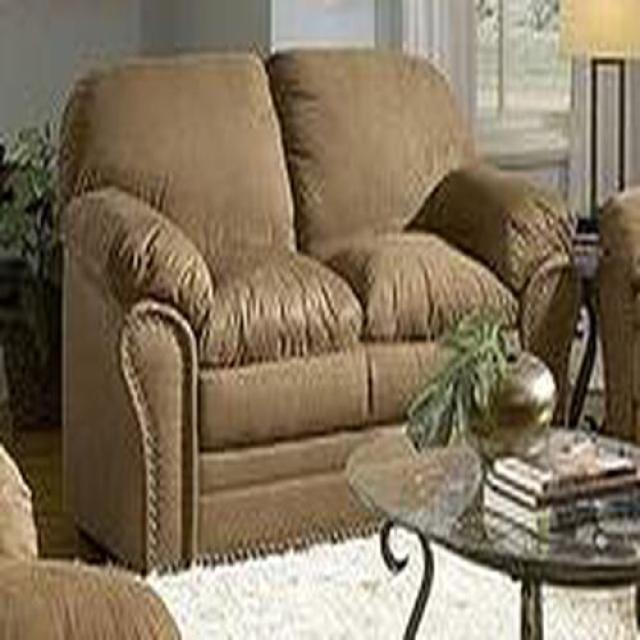sofa: (50, 50, 580, 575)
